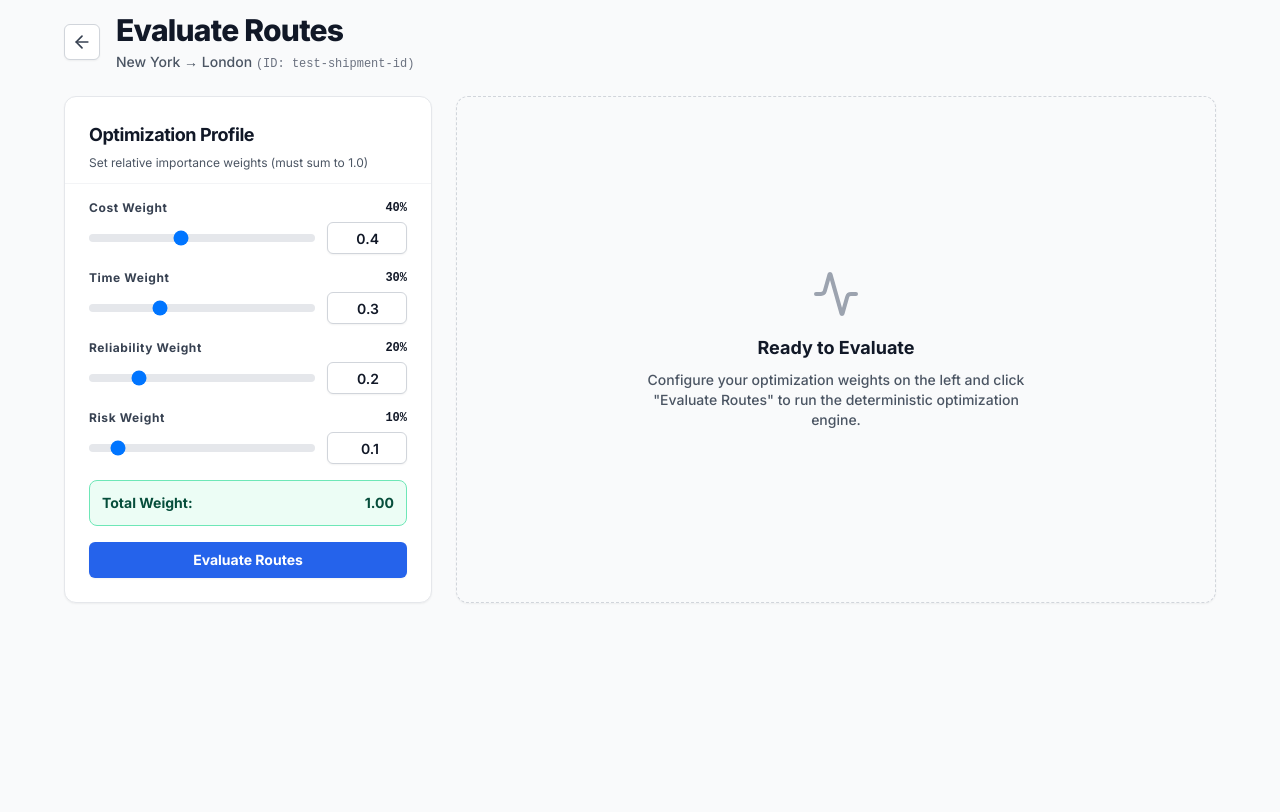
Test: EvaluatePage › handles no feasible route state
Click the button "Evaluate Routes": (248, 560) [89, 542, 407, 578]
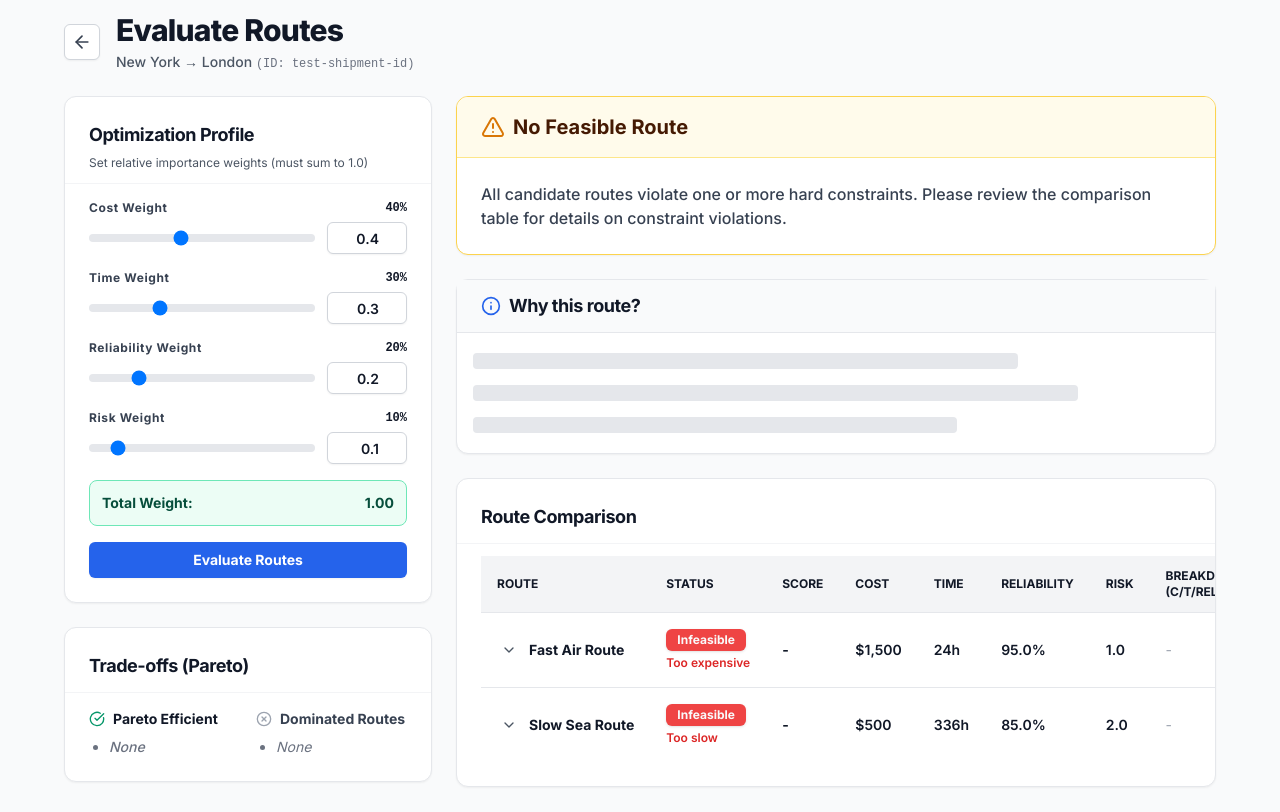
Result: the heading "No Feasible Route" is shown at [481, 115, 688, 139]
Result: the text "All candidate routes violate one or more hard constraints" is shown at [481, 184, 1151, 228]
Result: the text "Too expensive" is shown at [666, 655, 750, 671]
